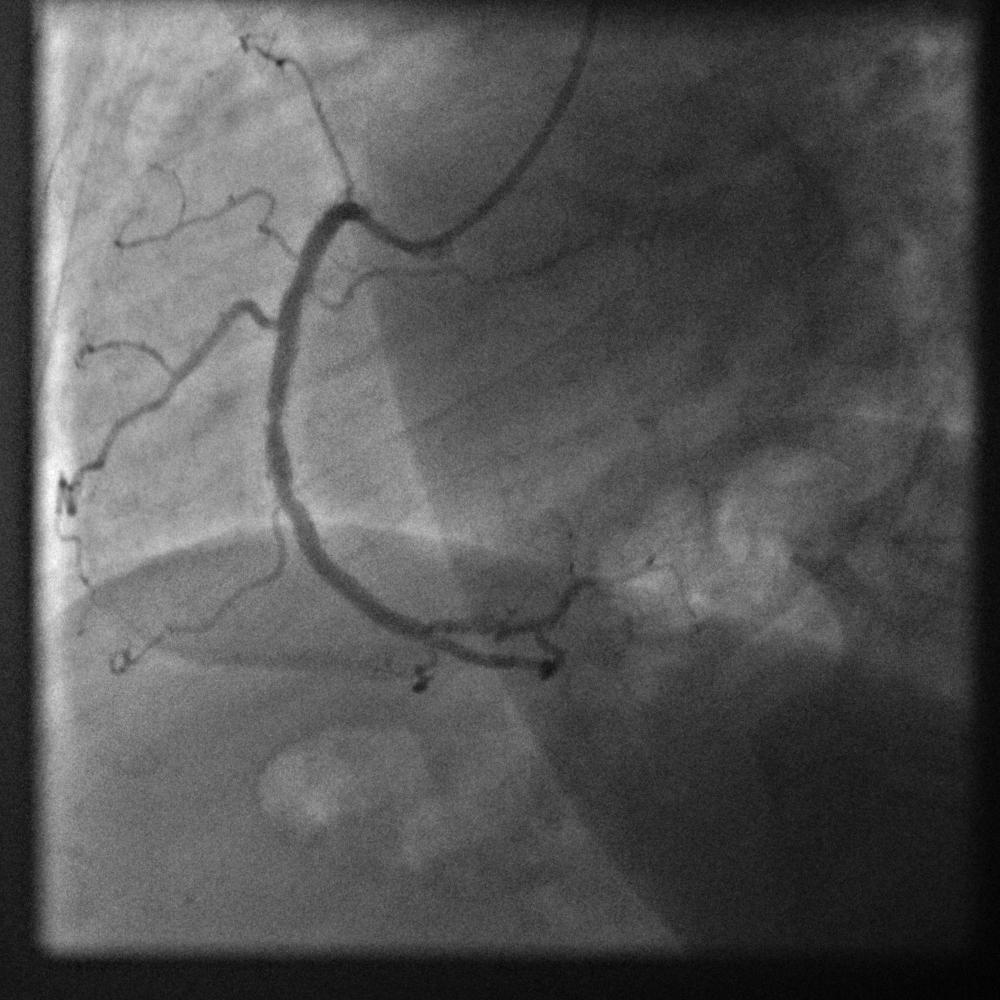Stenosis: (277, 241, 320, 309)
